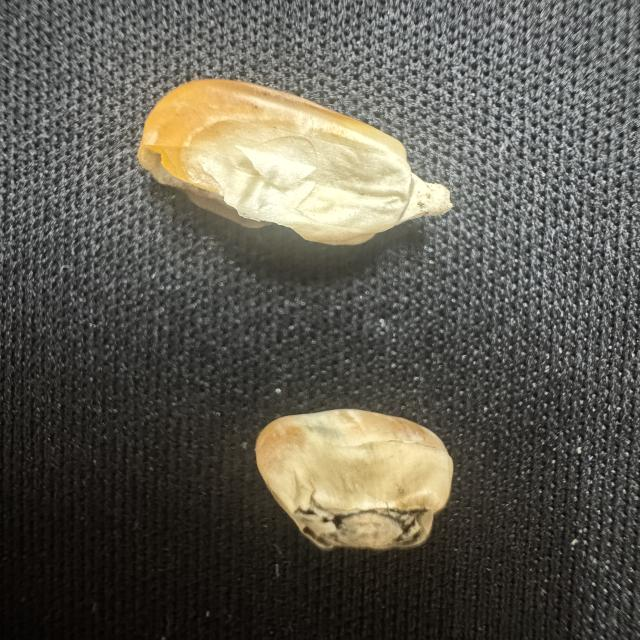Bad-Seed: (121, 69, 462, 263), (249, 402, 462, 556)
